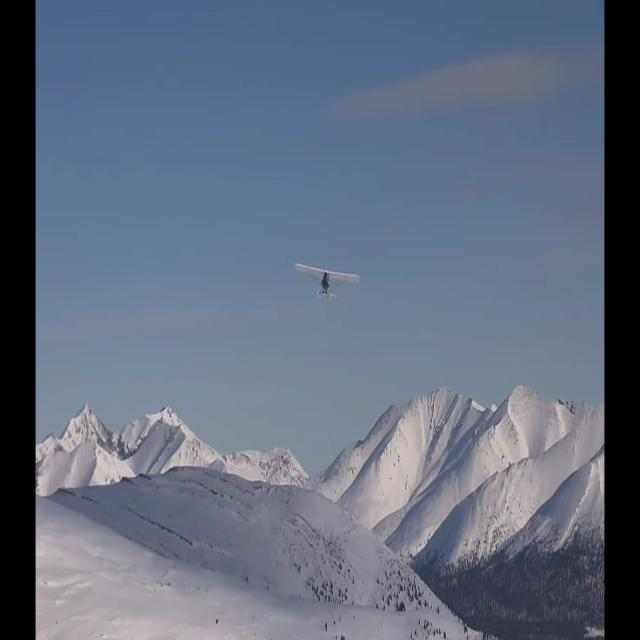iha: (319, 262, 322, 301)
